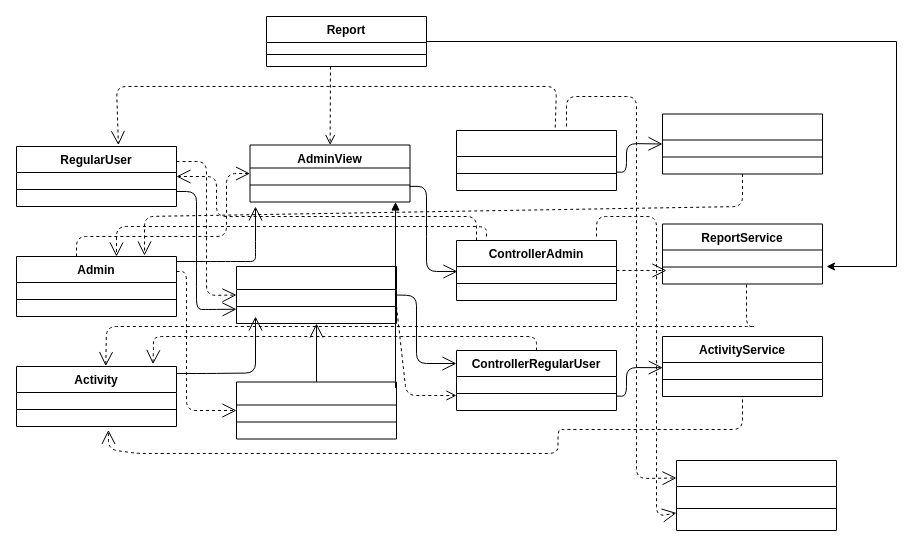
This 913x547 diagram has some shape labels left out. Here are the shapes that lost their labels. From the top down, the centre of each, then its label:
the point at 536,160: Controller
the point at 742,143: AdminService
the point at 316,295: RegularUserView
the point at 316,410: LoginView
the point at 756,495: RegularUserService
